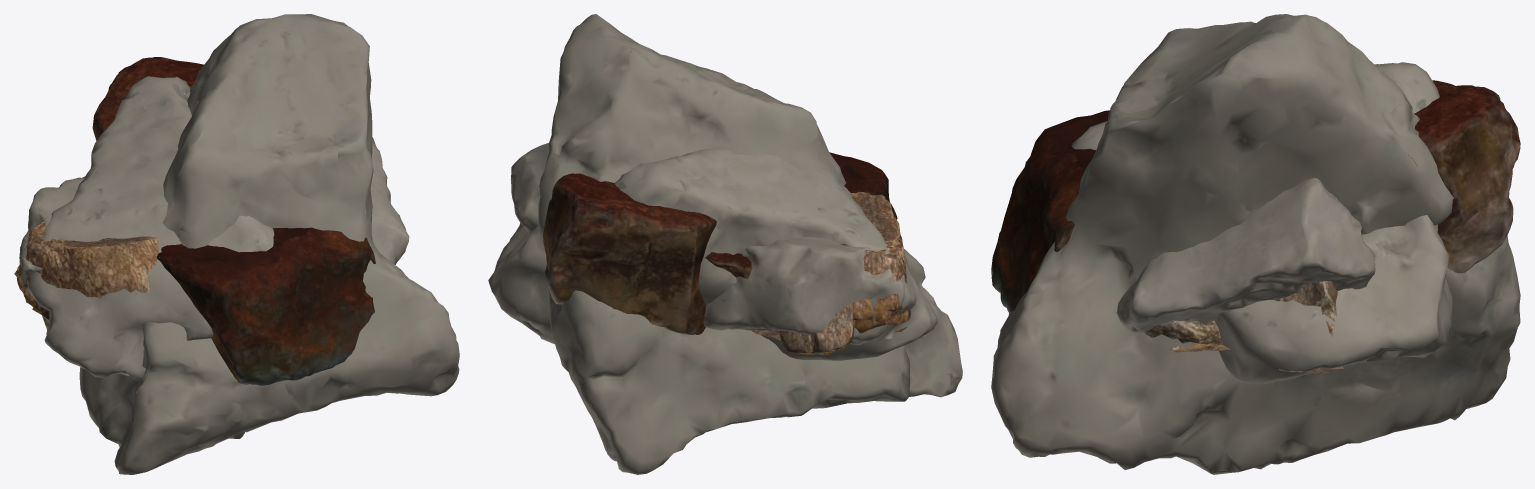
Rendered from rocks.glb.
The picture shows the model from 3 angles, left to right: view 1: azimuth 30°, elevation 25°; view 2: azimuth 150°, elevation 25°; view 3: azimuth 270°, elevation 25°; orthographic projection. The views are drawn at different scales.
Parts seen in each view (by area): view 1: Rock_2, Rock_1, Rock_3, Rock_4, Rock_0; view 2: Rock_2, Rock_1, Rock_3, Rock_0, Rock_4; view 3: Rock_2, Rock_3, Rock_1, Rock_0, Rock_4.
Part boxes in pixels (box(x1,y1,x2,y2)): Rock_2: box(79, 14, 459, 474); Rock_1: box(27, 76, 274, 379); Rock_3: box(92, 57, 375, 385); Rock_4: box(14, 218, 158, 326); Rock_0: box(19, 137, 409, 296); Rock_2: box(538, 14, 962, 474); Rock_1: box(488, 147, 937, 360); Rock_3: box(543, 152, 897, 334); Rock_0: box(510, 143, 905, 344); Rock_4: box(509, 191, 910, 355); Rock_2: box(991, 14, 1520, 474); Rock_3: box(991, 80, 1520, 313); Rock_1: box(1071, 62, 1452, 384); Rock_0: box(1116, 178, 1375, 332); Rock_4: box(1144, 279, 1346, 373).
Bounding box in the file's own units: 2 × 1.81 × 2.
Materials: 5 (5 with a texture image).
